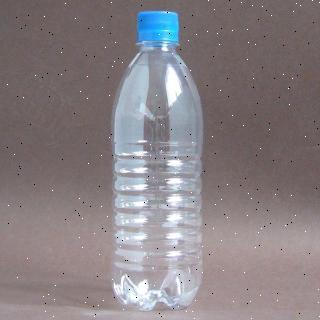Plastic-bottle: (108, 11, 208, 313)
